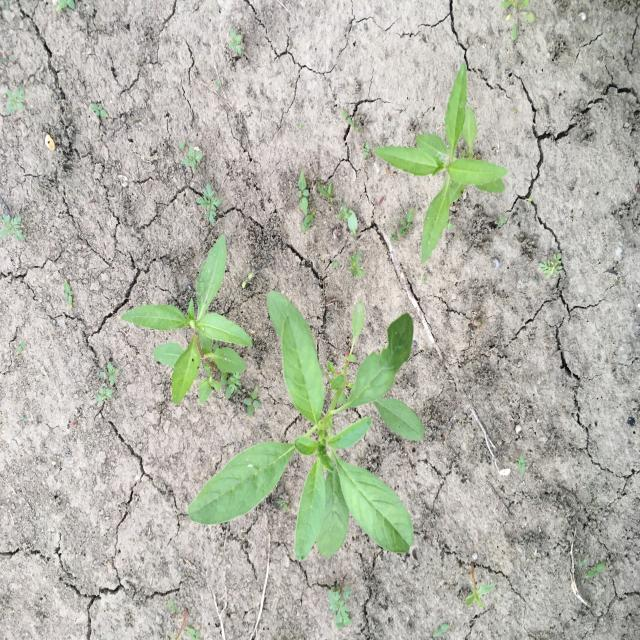Eclipta: (372, 59, 510, 268), (118, 234, 254, 406)
Ragweed: (192, 182, 226, 228)
Waterhemp: (184, 288, 426, 564)
